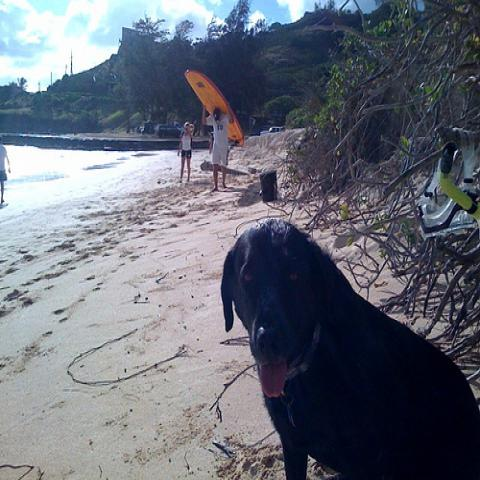car: (158, 125, 181, 139), (261, 126, 283, 135)
